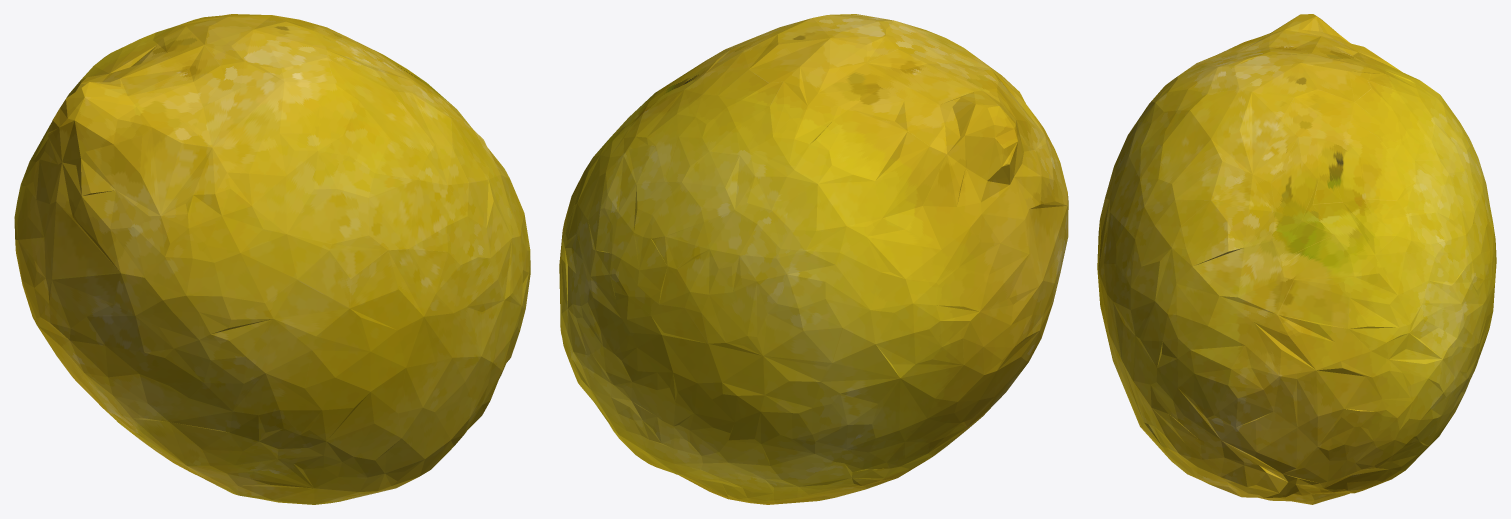
Rendered from ycb_lemon_metric_fp.obj.
The picture shows the model from 3 angles, left to right: view 1: azimuth 30°, elevation 25°; view 2: azimuth 150°, elevation 25°; view 3: azimuth 270°, elevation 25°; orthographic projection. The views are drawn at different scales.
Size of the model in its own units: 0.0608 by 0.0593 by 0.0531.
1 material, 1 textured.
